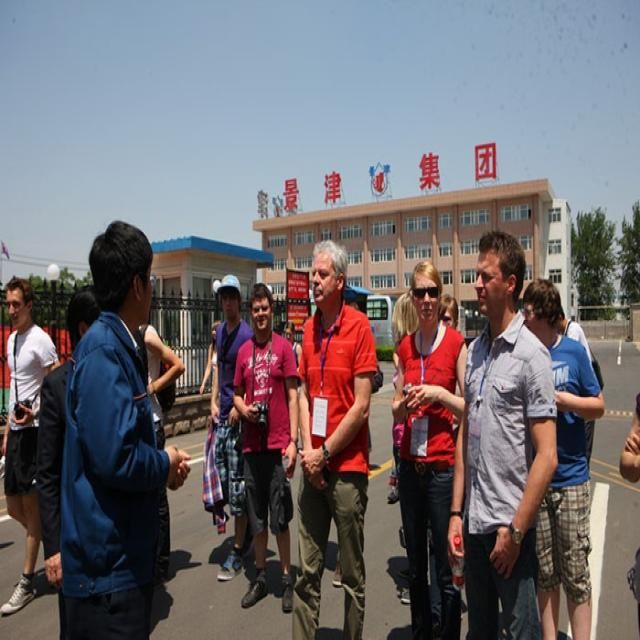body: (56, 218, 193, 640), (449, 226, 561, 638), (290, 239, 376, 639), (393, 254, 475, 639), (520, 274, 606, 640), (33, 281, 106, 640), (232, 278, 304, 612), (0, 275, 64, 622), (211, 272, 255, 581), (138, 321, 187, 592), (368, 293, 420, 504), (397, 520, 467, 638), (556, 304, 599, 472), (612, 389, 639, 614), (200, 320, 222, 412), (282, 320, 302, 393), (329, 537, 351, 592), (435, 294, 462, 334)
